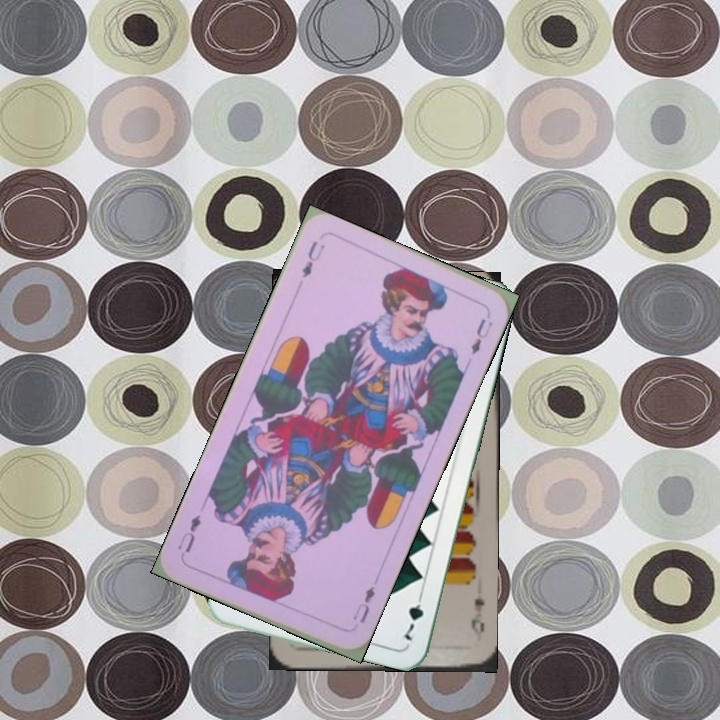E9: (467, 592, 487, 643)
EU: (297, 236, 328, 281), (349, 581, 378, 626)
G7: (400, 587, 426, 643)
